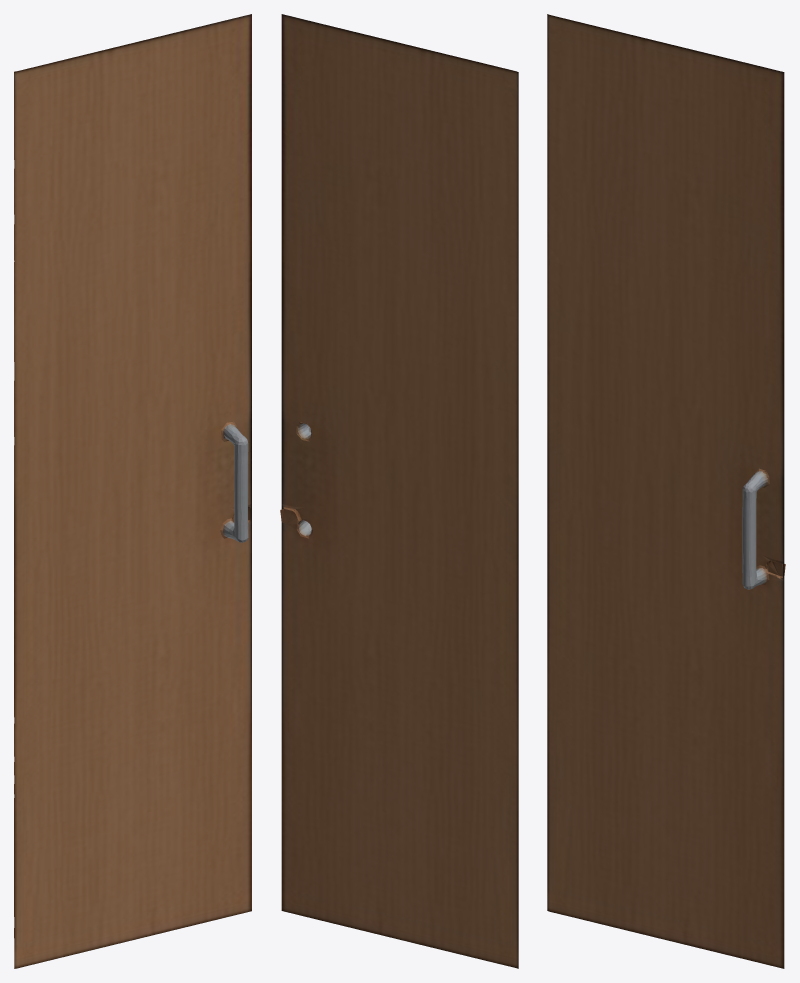
Rendered from door_left.glb.
3 views of the same model, side by side, from view 1: azimuth 30°, elevation 25°; view 2: azimuth 150°, elevation 25°; view 3: azimuth 330°, elevation 25° (orthographic).
Visible parts, largest first — view 1: source_surface_0; view 2: source_surface_0; view 3: source_surface_0.
Part boxes in pixels (<box>): source_surface_0: <box>14,14,251,968</box>; source_surface_0: <box>280,14,518,968</box>; source_surface_0: <box>547,14,785,968</box>.
Bounding box in the file's own units: 0.8362 × 3.02 × 0.1117.
Materials: 1 (1 with a texture image).
